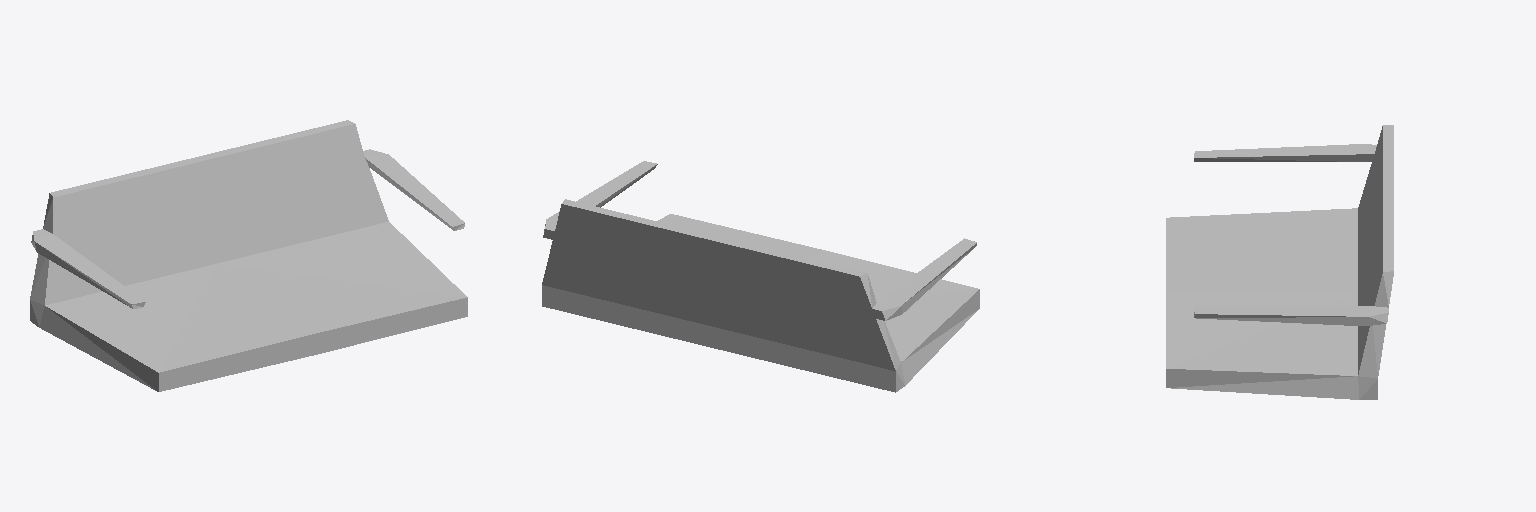
File: sofa_base.obj
3 views of the same model, side by side, from view 1: azimuth 30°, elevation 25°; view 2: azimuth 150°, elevation 25°; view 3: azimuth 270°, elevation 25° (orthographic).
Parts seen in each view (by area): view 1: Sofa; view 2: Sofa; view 3: Sofa.
Part boxes in pixels (x1,y1,x2,y2): Sofa: (30,120,467,391); Sofa: (542,161,979,392); Sofa: (1166,125,1393,399).
Size of the model in its own units: 3.86 by 1.2 by 2.15.